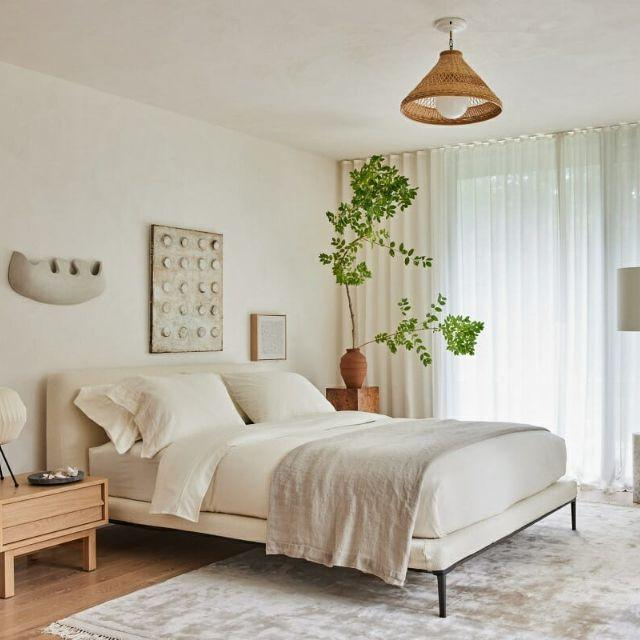bed: (85, 423, 578, 548)
pillow: (128, 375, 238, 446), (235, 370, 337, 425)
table: (0, 464, 108, 604)
window: (435, 156, 633, 486)
